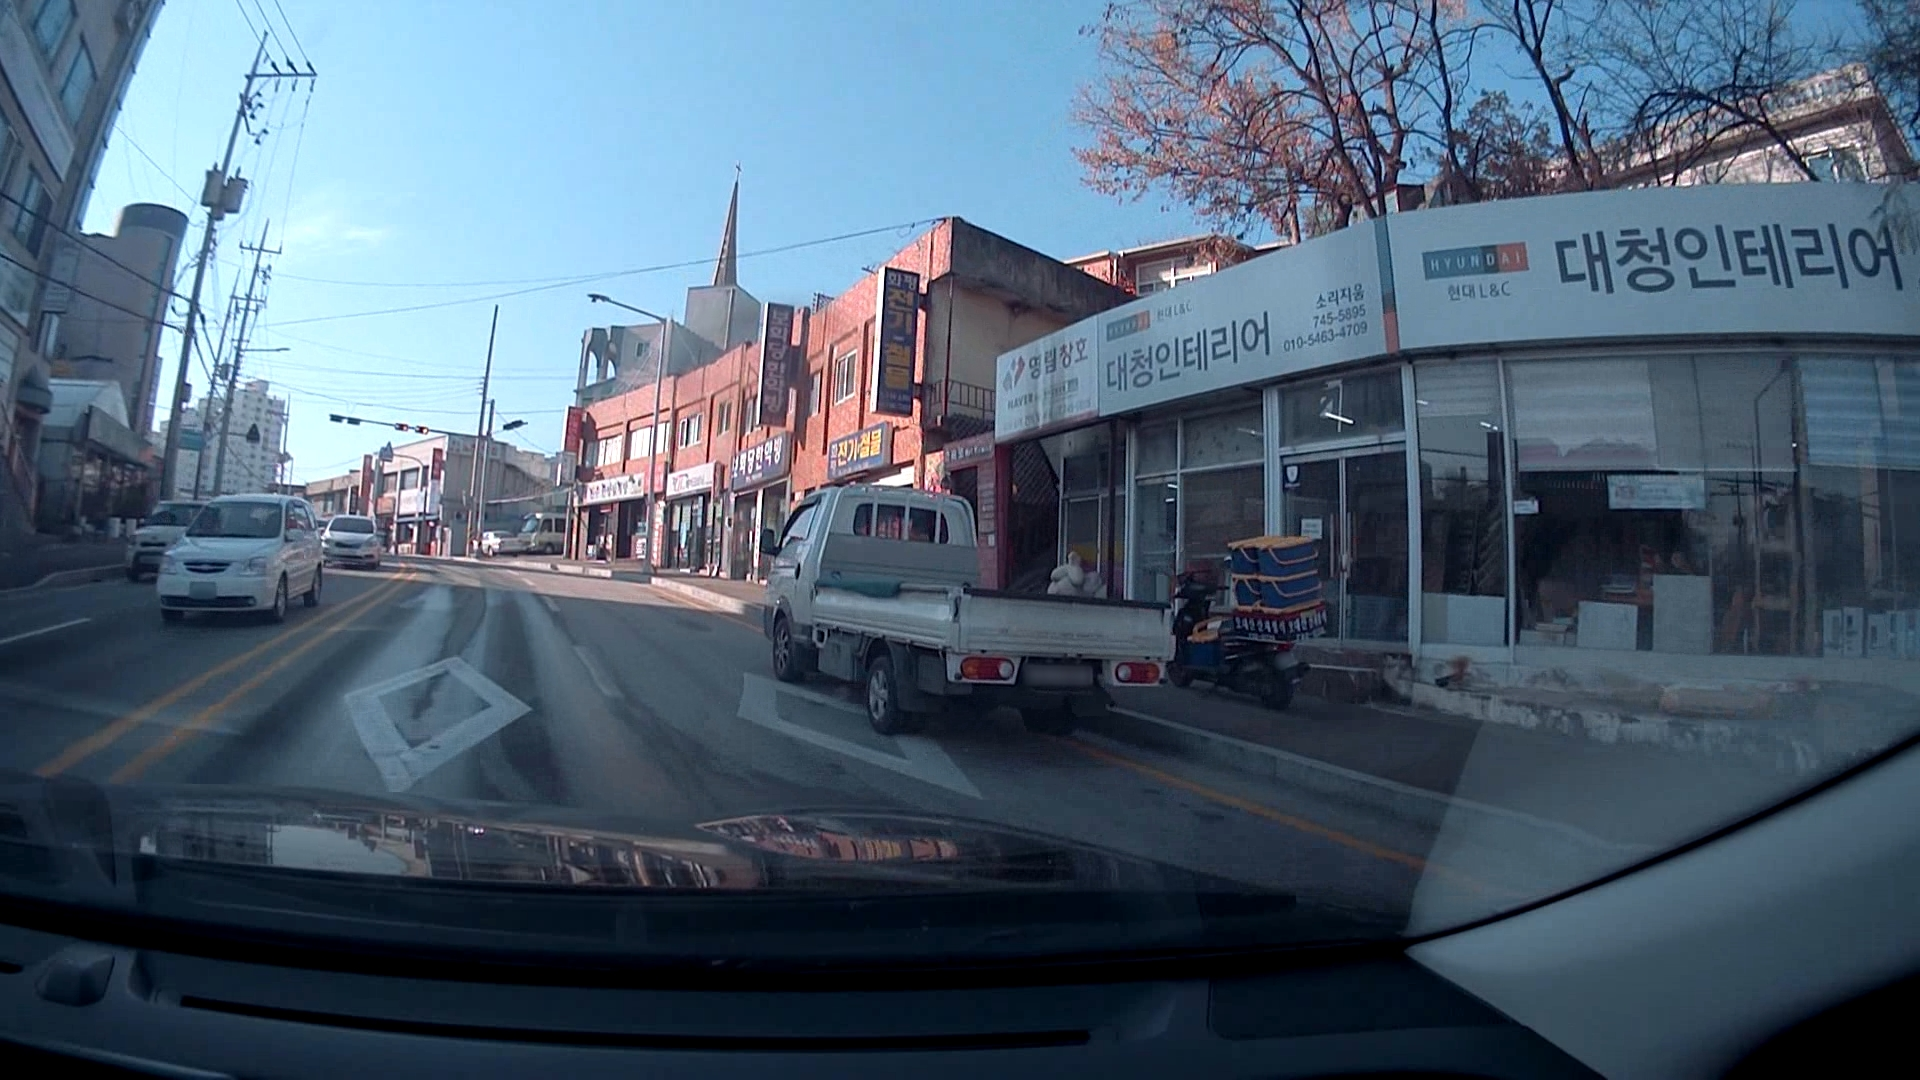trafficLight: (392, 418, 431, 436)
